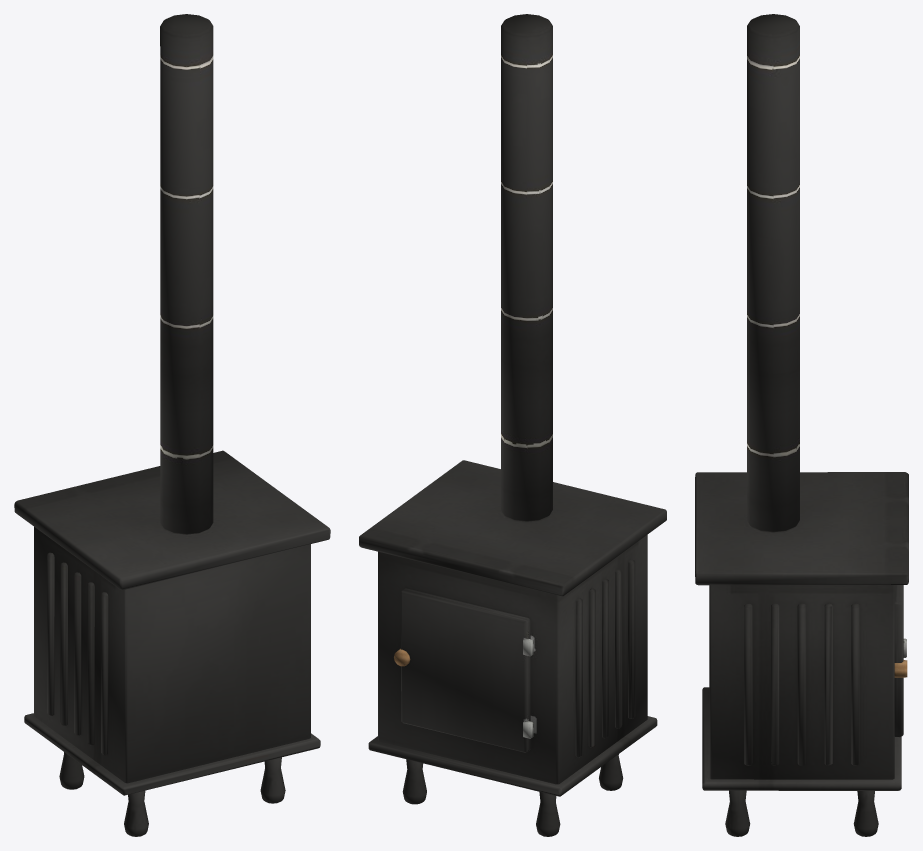
The model's file is stove_wood.glb.
3 views of the same model, side by side, from view 1: azimuth 30°, elevation 25°; view 2: azimuth 150°, elevation 25°; view 3: azimuth 270°, elevation 25° (orthographic). The views are drawn at different scales.
Visible parts, largest first — view 1: prop_stove_wood_felt; view 2: prop_stove_wood_felt; view 3: prop_stove_wood_felt.
Boxes of the visible parts, x1,y1,x2,y2 form: prop_stove_wood_felt: (14, 14, 330, 836); prop_stove_wood_felt: (359, 14, 666, 836); prop_stove_wood_felt: (695, 14, 908, 836).
Bounding box in the file's own units: 1.36 × 4.8 × 1.2.
4 materials, 3 textured.
